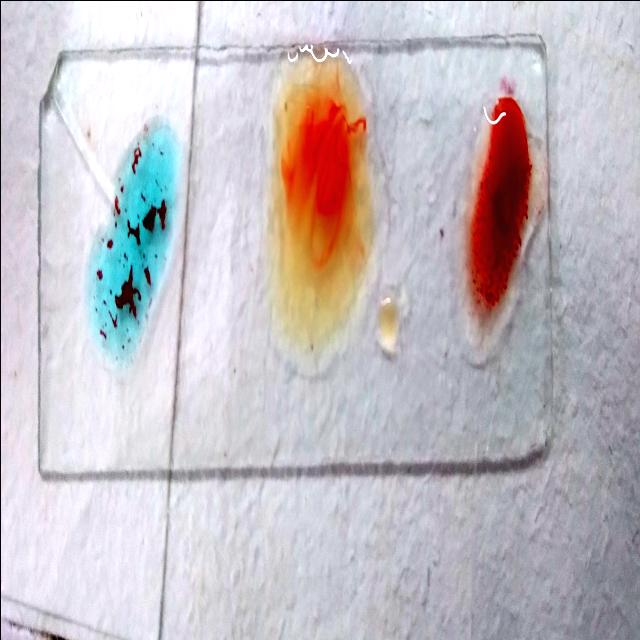A: (93, 127, 172, 361)
D: (454, 85, 534, 364)
